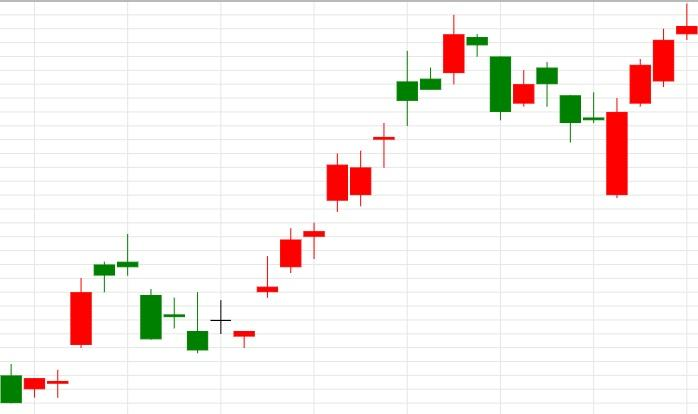inverse_hammer_rise: (117, 234, 209, 353)
